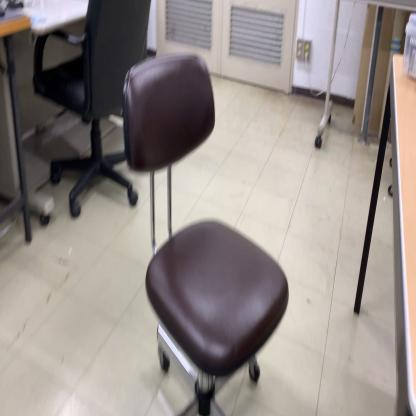chair: (122, 51, 291, 416), (32, 0, 153, 222)
